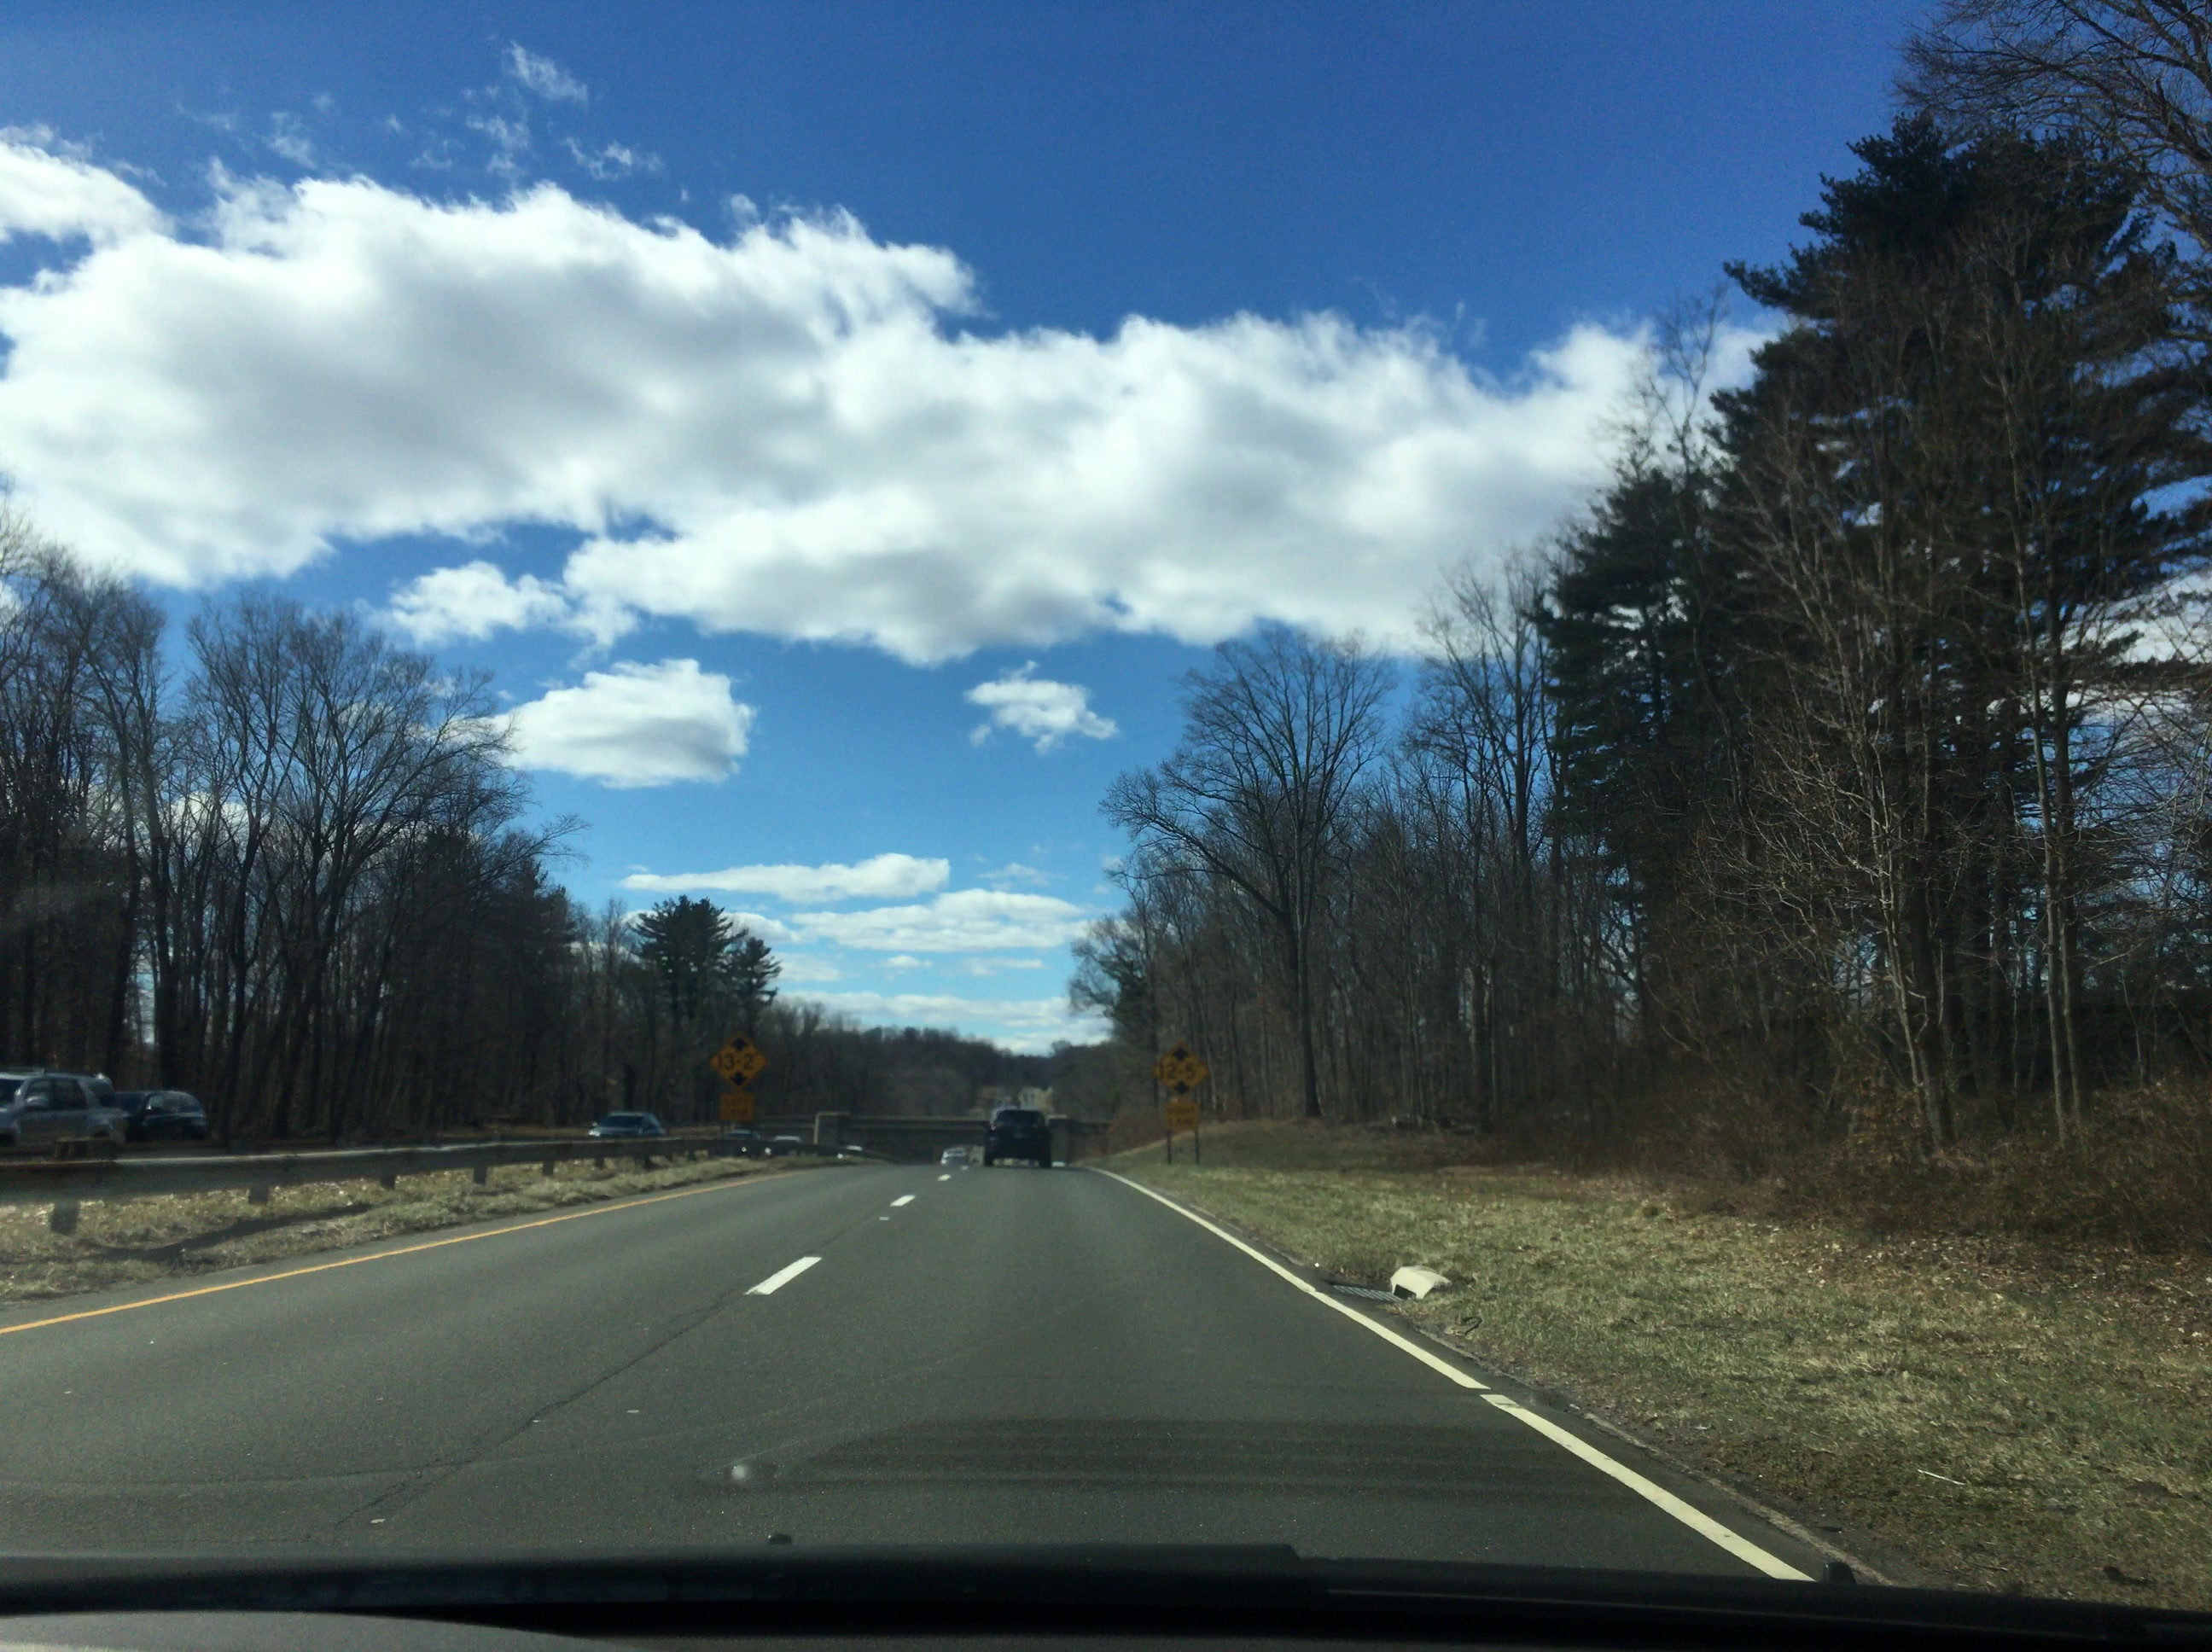low-clearance-sign: (1150, 1039, 1211, 1102), (708, 1031, 769, 1091)
